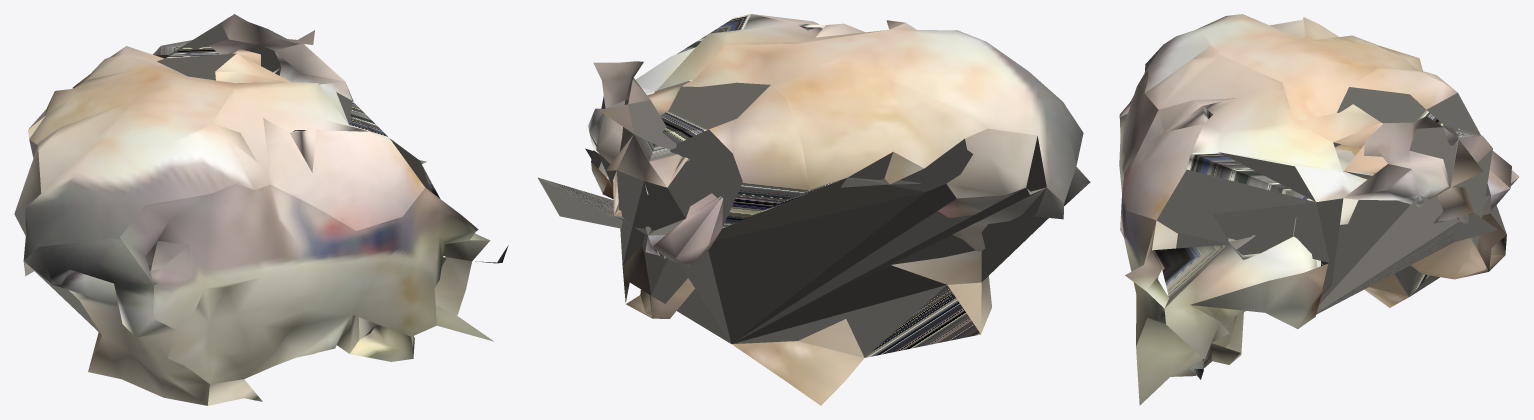
3 views of the same model, side by side, from view 1: azimuth 30°, elevation 25°; view 2: azimuth 150°, elevation 25°; view 3: azimuth 270°, elevation 25° (orthographic). The views are drawn at different scales.
Visible parts, largest first — view 1: Object; view 2: Object; view 3: Object.
Part boxes in pixels (x1,y1,x2,y2): Object: [14, 14, 508, 405]; Object: [537, 14, 1090, 405]; Object: [1119, 14, 1519, 405].
Size of the model in its own units: 0.0527 by 0.0304 by 0.041.
1 material, 1 textured.
